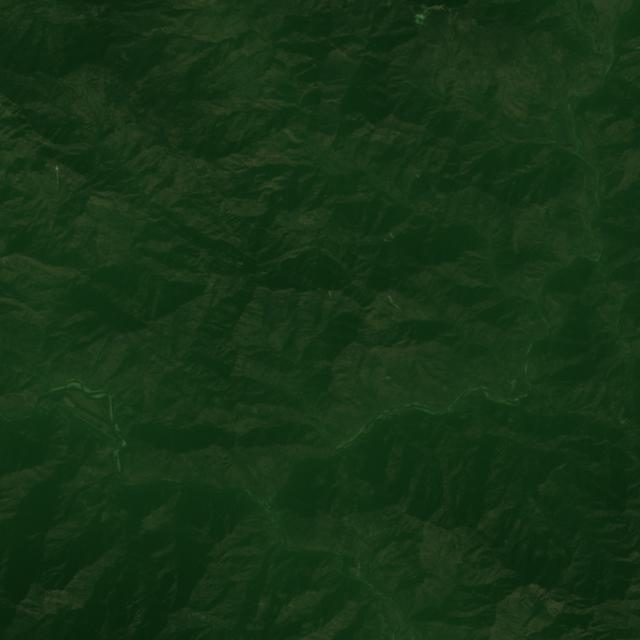landslides: (531, 116, 564, 122), (267, 99, 284, 110), (388, 296, 399, 308), (55, 165, 61, 185), (213, 492, 218, 516), (90, 196, 100, 207)
